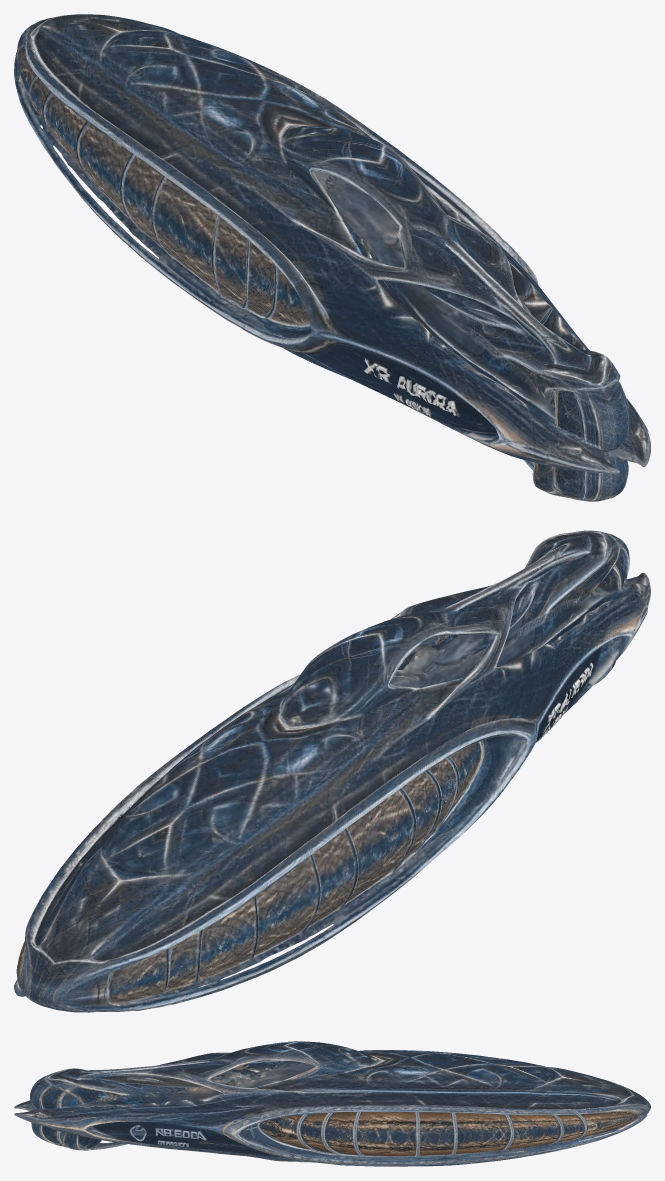
File: xr-aurora-hull.glb
3 renders of one model, top to bottom at view 1: azimuth 30°, elevation 25°; view 2: azimuth 150°, elevation 25°; view 3: azimuth 270°, elevation 25°, orthographic. The views are drawn at different scales.
Visible parts, largest first — view 1: xr-aurora-hull; view 2: xr-aurora-hull; view 3: xr-aurora-hull.
Boxes of the visible parts, box(x1,y1,x2,y2) form: xr-aurora-hull: box(14, 14, 650, 501); xr-aurora-hull: box(14, 530, 650, 1012); xr-aurora-hull: box(14, 1041, 650, 1166).
Bounding box in the file's own units: 13.58 × 11.52 × 62.
Materials: 1 (1 with a texture image).
